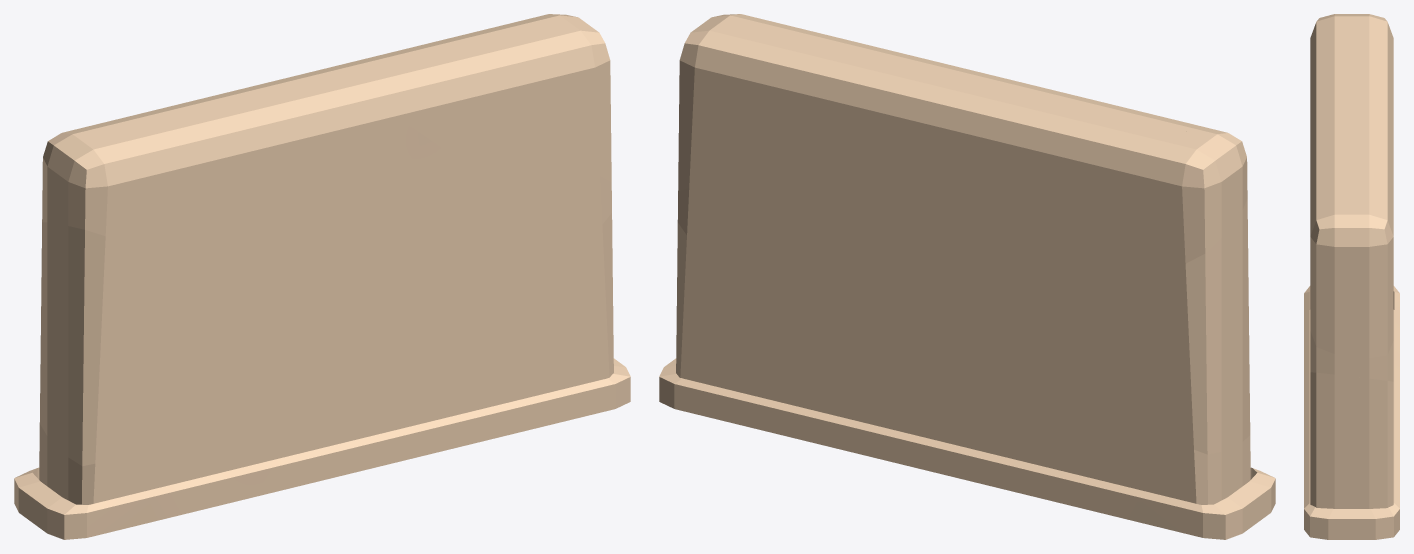
The model's file is Wall.fbx.
The picture shows the model from 3 angles, left to right: view 1: azimuth 30°, elevation 25°; view 2: azimuth 150°, elevation 25°; view 3: azimuth 270°, elevation 25°; orthographic projection. The views are drawn at different scales.
Parts seen in each view (by area): view 1: Box001_fracturepart5, Box001_fracturepart8, Wall_Floor, Box001_fracturepart13, Box001_fracturepart9, Box001_fracturepart16, Box001_fracturepart14, Box001_fracturepart3, Box001_fracturepart10, Box001_fracturepart12, Box001_fracturepart2, Box001_fracturepart4 (+7 smaller); view 2: Box001_fracturepart1, Box001_fracturepart13, Wall_Floor, Box001_fracturepart8, Box001_fracturepart14, Box001_fracturepart6, Box001_fracturepart16, Box001_fracturepart4, Box001_fracturepart17, Box001_fracturepart19, Box001_fracturepart12, Box001_fracturepart20 (+7 smaller); view 3: Box001_fracturepart13, Box001_fracturepart12, Wall_Floor, Box001_fracturepart10, Box001_fracturepart6, Box001_fracturepart14, Box001_fracturepart9, Box001_fracturepart1.
Boxes of the visible parts, box(x1,y1,x2,y2) form: Box001_fracturepart5: box(344, 122, 578, 307); Box001_fracturepart8: box(39, 222, 169, 466); Wall_Floor: box(14, 358, 630, 539); Box001_fracturepart13: box(373, 14, 611, 181); Box001_fracturepart9: box(243, 81, 375, 265); Box001_fracturepart16: box(383, 275, 546, 427); Box001_fracturepart14: box(394, 70, 611, 242); Box001_fracturepart3: box(146, 146, 292, 287); Box001_fracturepart10: box(105, 88, 278, 208); Box001_fracturepart12: box(509, 213, 613, 402); Box001_fracturepart2: box(216, 262, 323, 419); Box001_fracturepart4: box(127, 279, 217, 441); Box001_fracturepart1: box(1036, 130, 1247, 286); Box001_fracturepart13: box(678, 14, 908, 191); Wall_Floor: box(659, 358, 1275, 539); Box001_fracturepart8: box(1119, 199, 1250, 454); Box001_fracturepart14: box(677, 55, 925, 270); Box001_fracturepart6: box(870, 59, 986, 258); Box001_fracturepart16: box(729, 267, 912, 425); Box001_fracturepart4: box(1041, 276, 1154, 423); Box001_fracturepart17: box(1029, 420, 1250, 504); Box001_fracturepart19: box(942, 254, 1047, 421); Box001_fracturepart12: box(676, 222, 768, 399); Box001_fracturepart20: box(875, 258, 994, 421); Box001_fracturepart13: box(1310, 141, 1393, 357); Box001_fracturepart12: box(1310, 372, 1393, 508); Wall_Floor: box(1304, 286, 1399, 539); Box001_fracturepart10: box(1310, 22, 1393, 105); Box001_fracturepart6: box(1310, 104, 1393, 164); Box001_fracturepart14: box(1310, 140, 1393, 381); Box001_fracturepart9: box(1310, 90, 1393, 146); Box001_fracturepart1: box(1310, 14, 1393, 86).
Bounding box in the file's own units: 242 × 147 × 41.53.
